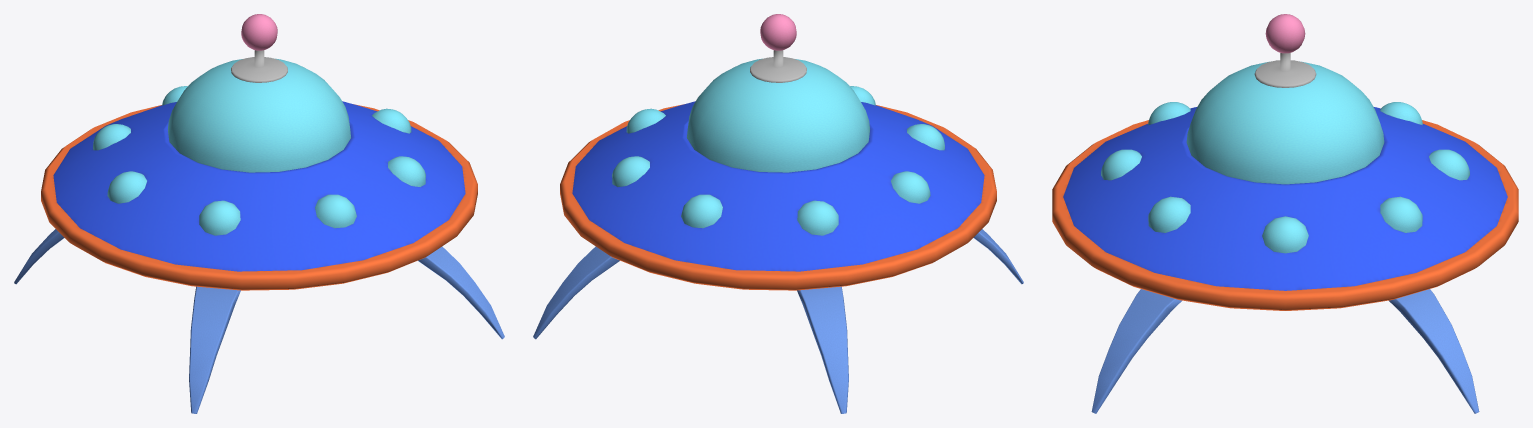
The model's file is ufoblue.fbx.
The picture shows the model from 3 angles, left to right: view 1: azimuth 30°, elevation 25°; view 2: azimuth 150°, elevation 25°; view 3: azimuth 270°, elevation 25°; orthographic projection. The views are drawn at different scales.
Visible parts, largest first — view 1: ufobody, ufomado1, ufoasi, ufomado, ufoue, ufoball; view 2: ufobody, ufomado1, ufoasi, ufomado, ufoue, ufoball; view 3: ufobody, ufomado1, ufoasi, ufomado, ufoue, ufoball.
Boxes of the visible parts, <box> form: ufobody: <box>41,101,477,290</box>; ufomado1: <box>168,58,350,172</box>; ufoasi: <box>14,229,504,413</box>; ufomado: <box>93,86,425,235</box>; ufoue: <box>231,50,287,82</box>; ufoball: <box>241,14,277,50</box>; ufobody: <box>560,101,996,290</box>; ufomado1: <box>687,58,869,172</box>; ufoasi: <box>533,229,1023,413</box>; ufomado: <box>612,86,944,235</box>; ufoue: <box>750,50,806,82</box>; ufoball: <box>760,14,796,50</box>; ufobody: <box>1052,107,1518,310</box>; ufomado1: <box>1186,61,1384,184</box>; ufoasi: <box>1091,289,1479,413</box>; ufomado: <box>1101,102,1469,253</box>; ufoue: <box>1254,53,1316,87</box>; ufoball: <box>1265,14,1305,53</box>.
Size of the model in its own units: 8.54 by 6.37 by 8.48.
